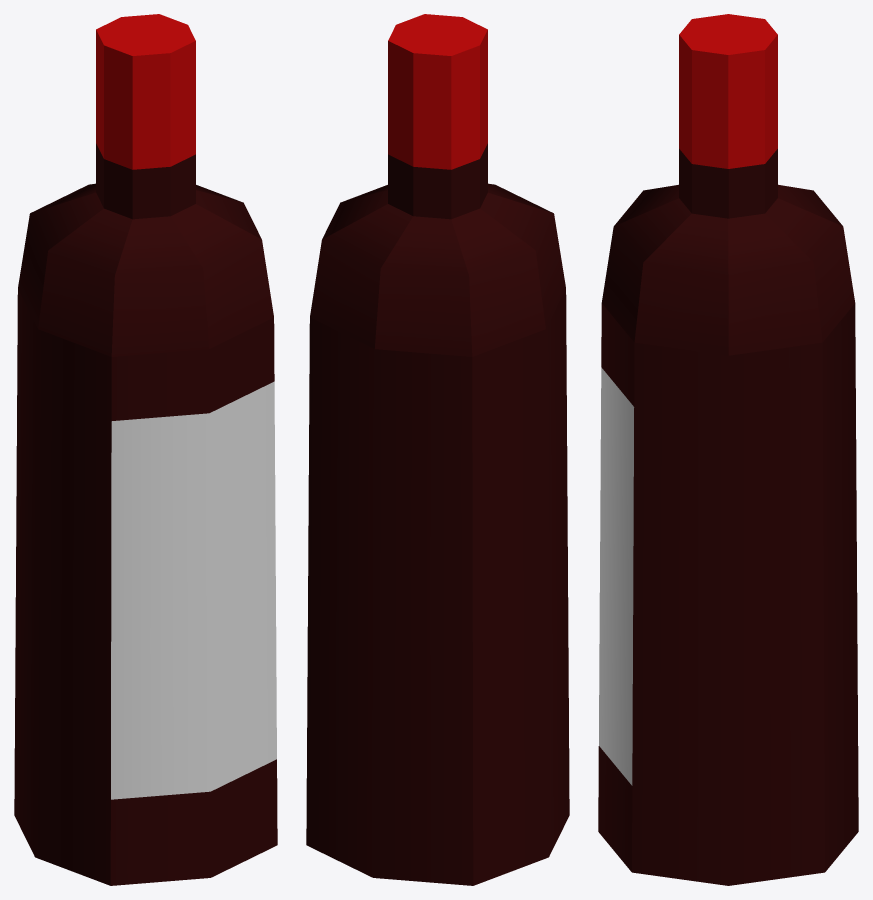
Rendered from WineBottle_Blockout.fbx.
3 renders of one model, left to right at view 1: azimuth 30°, elevation 25°; view 2: azimuth 150°, elevation 25°; view 3: azimuth 270°, elevation 25°, orthographic.
Visible parts, largest first — view 1: WineBottle_Blockout; view 2: WineBottle_Blockout; view 3: WineBottle_Blockout.
Part boxes in pixels (x1=…): WineBottle_Blockout: x1=14, y1=14, x2=277, y2=885; WineBottle_Blockout: x1=306, y1=14, x2=569, y2=885; WineBottle_Blockout: x1=598, y1=14, x2=858, y2=885.
Size of the model in its own units: 17.2 by 58.94 by 17.45.
